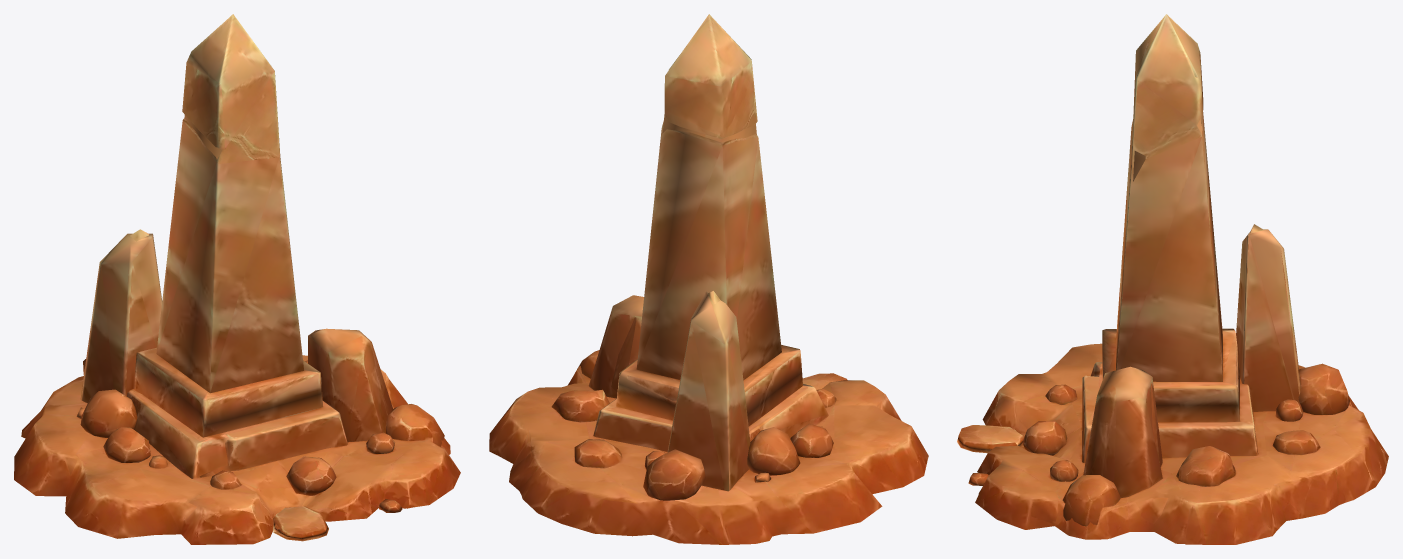
File: desert_monument_2.glb
The picture shows the model from 3 angles, left to right: view 1: azimuth 30°, elevation 25°; view 2: azimuth 150°, elevation 25°; view 3: azimuth 270°, elevation 25°; orthographic projection.
Size of the model in its own units: 0.8789 by 1 by 0.8887.
Materials: 1 (1 with a texture image).
